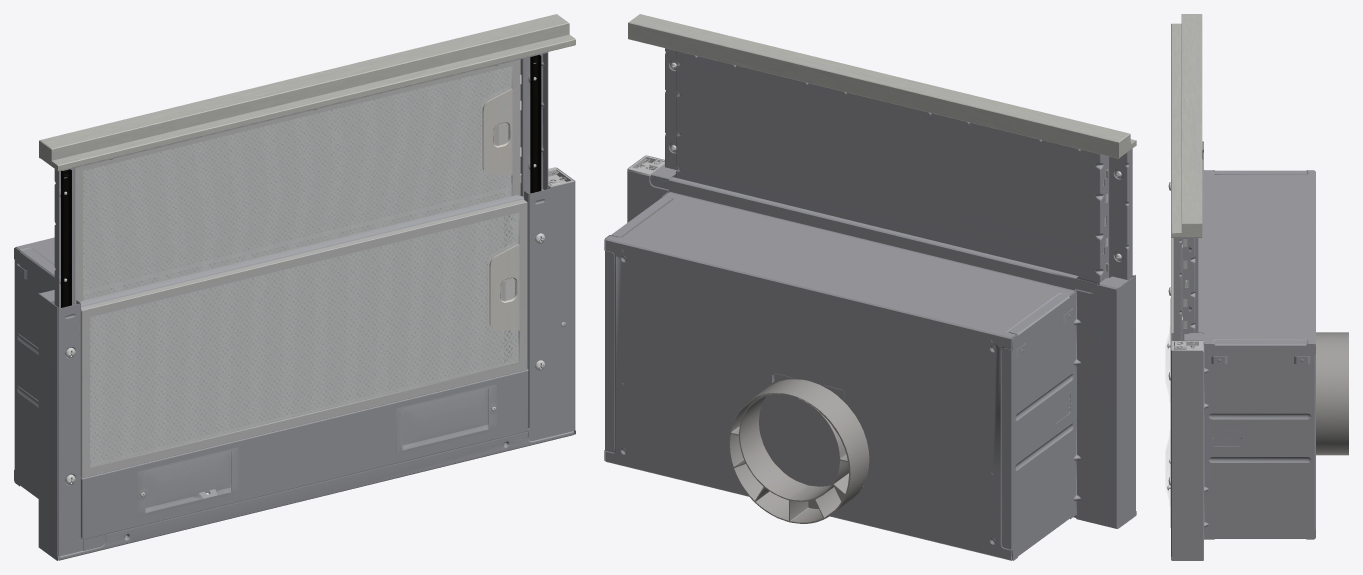
The model's file is utdrag_wbudowany_okap_kominowy_10389142.glb.
3 views of the same model, side by side, from view 1: azimuth 30°, elevation 25°; view 2: azimuth 150°, elevation 25°; view 3: azimuth 270°, elevation 25° (orthographic). The views are drawn at different scales.
Visible parts, largest first — view 1: utdrag_wbudowany_okap_kominowy_10389142; view 2: utdrag_wbudowany_okap_kominowy_10389142; view 3: utdrag_wbudowany_okap_kominowy_10389142.
Boxes of the visible parts, x1,y1,x2,y2 form: utdrag_wbudowany_okap_kominowy_10389142: (14, 14, 575, 560); utdrag_wbudowany_okap_kominowy_10389142: (604, 14, 1136, 560); utdrag_wbudowany_okap_kominowy_10389142: (1166, 14, 1348, 560).
Bounding box in the file's own units: 0.5985 × 0.45 × 0.2221.
Materials: 2 (2 with a texture image).
